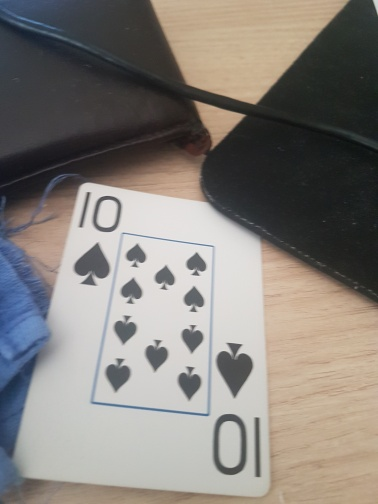ten: (11, 184, 271, 497)
